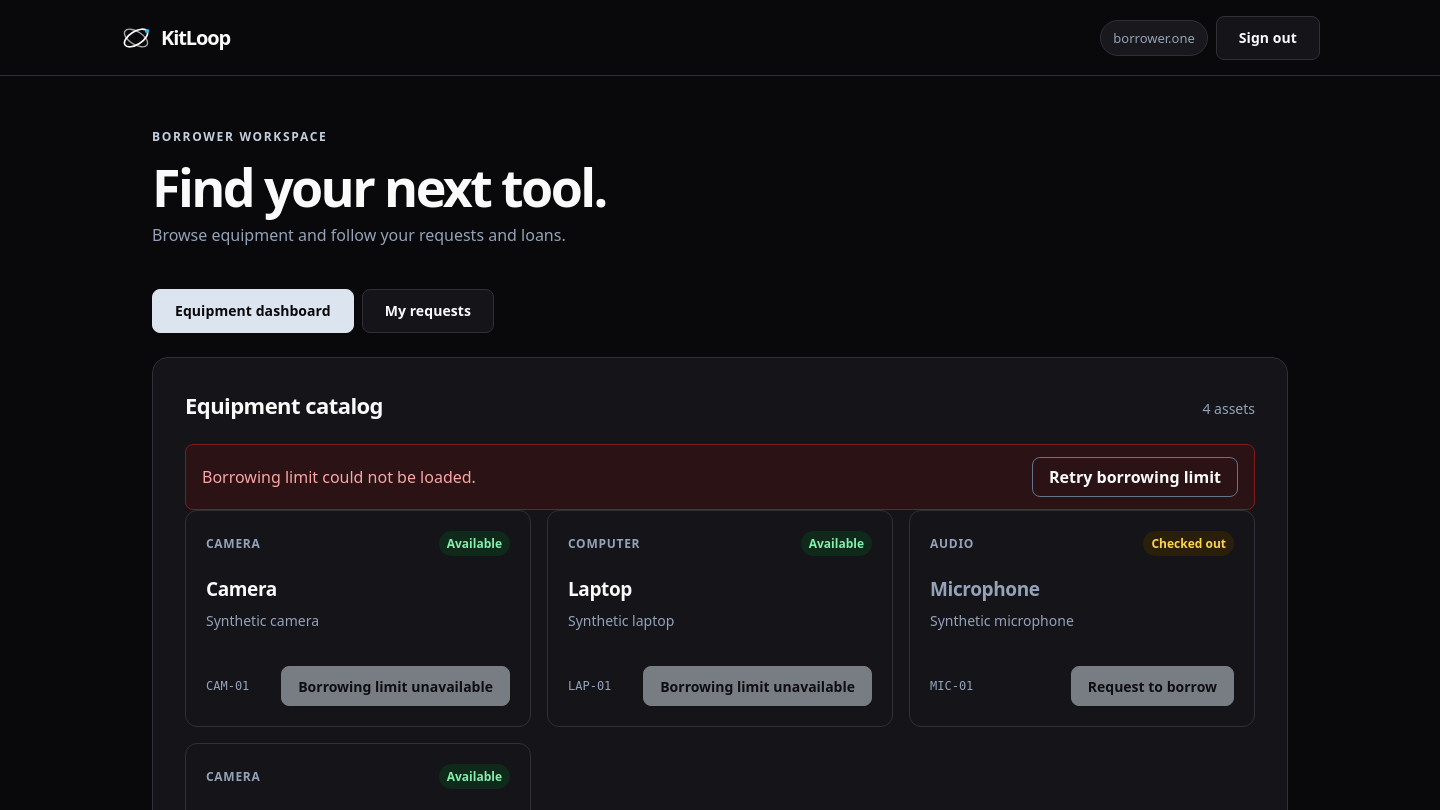
Test: CR-01 pending-request quota UI (AC11 / TC11) › shows a quota read failure on the catalog and lets the borrower retry there
The image size is (1440, 810).
Expected: the button with aria-label "Borrowing limit unavailable: Camera" is disabled, [281,666,510,706]
Click the button "Retry borrowing limit".
click(1135, 477)  # box [1032,457,1238,497]
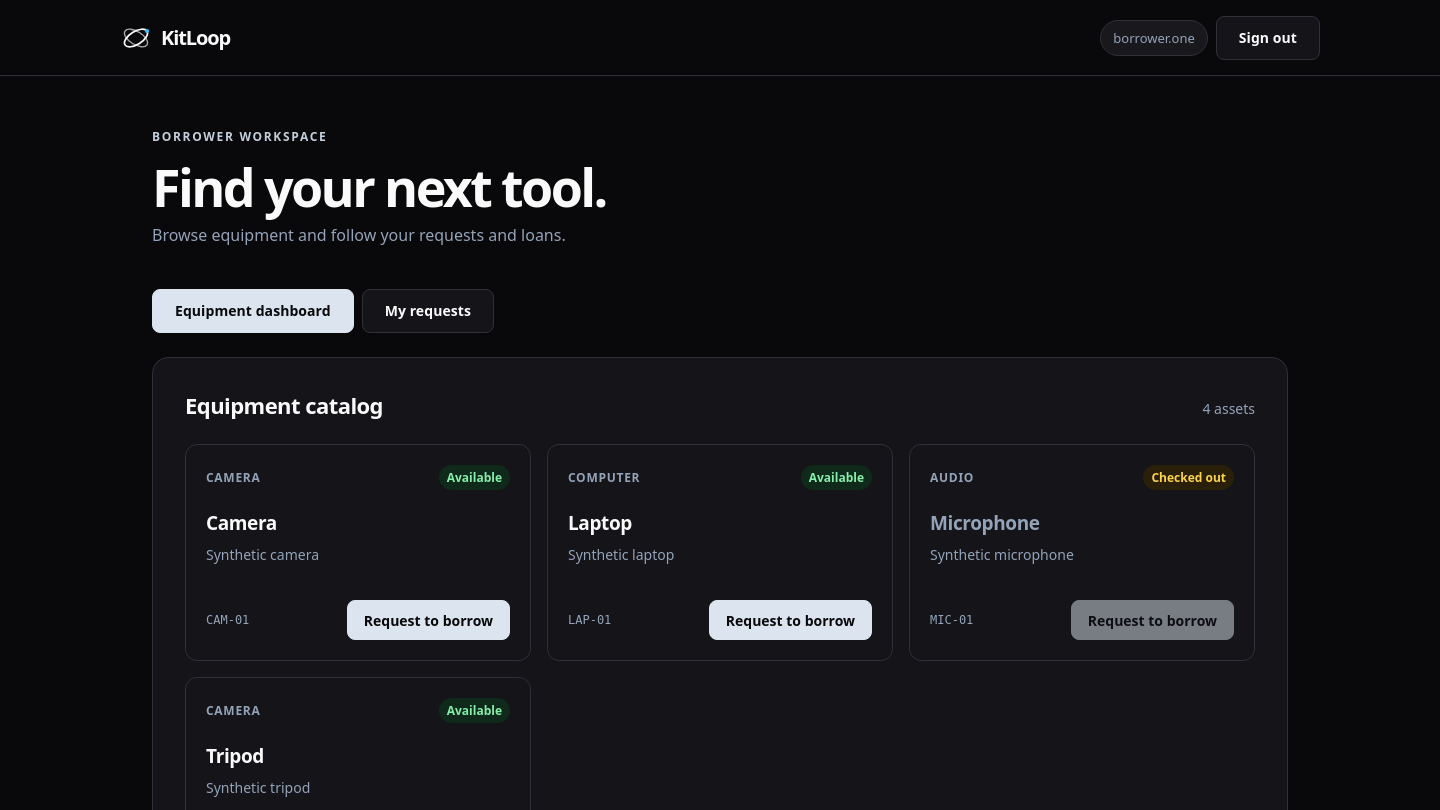
Now the button with aria-label "Request to borrow Camera" is enabled, box [347,600,510,640]
